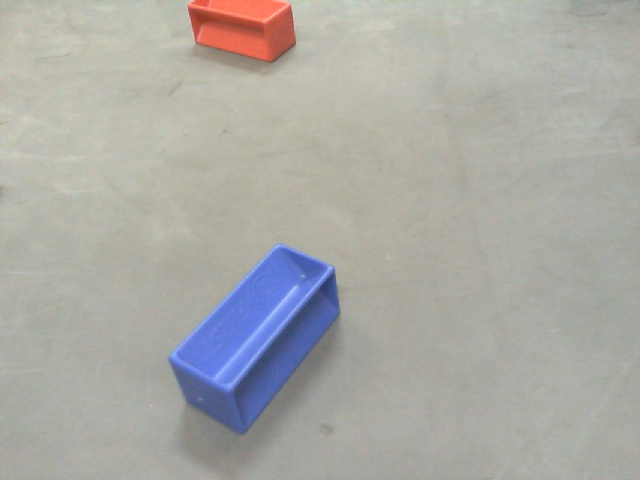BlueSample: (168, 245, 339, 435)
RedSample: (187, 1, 296, 64)
